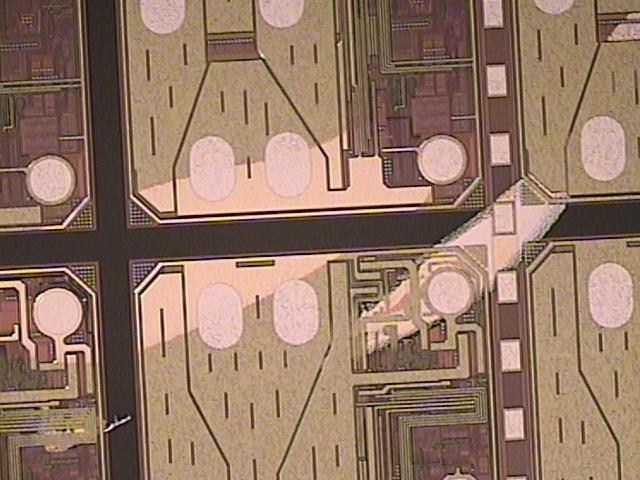COATING BAD: (1, 6, 640, 462)
